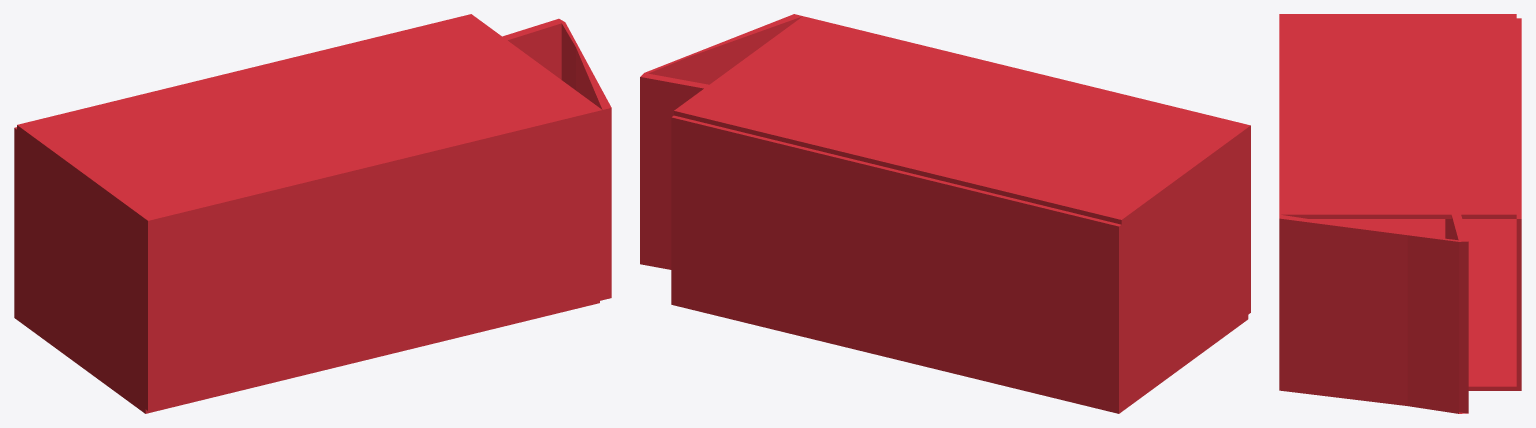
The model's file is room.glb.
3 renders of one model, left to right at view 1: azimuth 30°, elevation 25°; view 2: azimuth 150°, elevation 25°; view 3: azimuth 270°, elevation 25°, orthographic. The views are drawn at different scales.
Visible parts, largest first — view 1: Cube.002; view 2: Cube.002; view 3: Cube.002.
Boxes of the visible parts, box(x1,y1,x2,y2) form: Cube.002: box(14, 14, 611, 413); Cube.002: box(640, 14, 1250, 413); Cube.002: box(1279, 14, 1521, 413).
Size of the model in its own units: 114 by 41 by 51.
